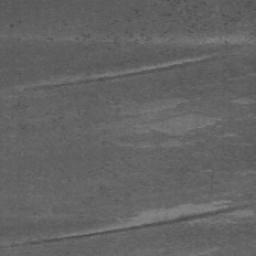Crease: (23, 204, 255, 245), (26, 53, 223, 88)
